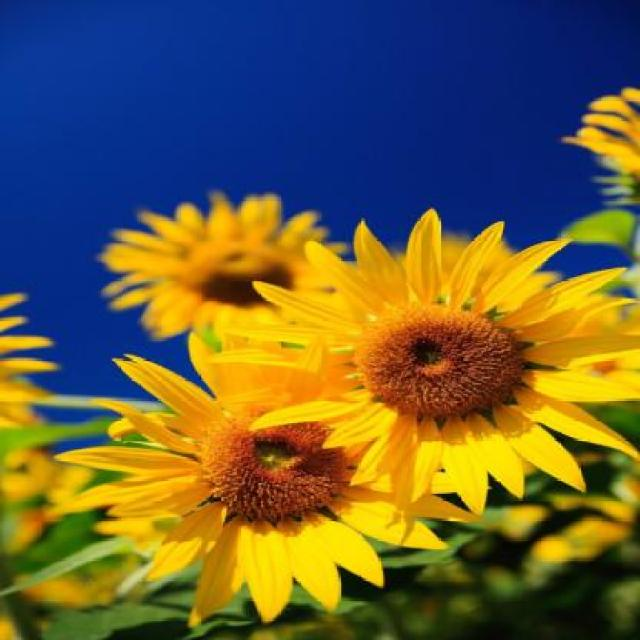sunflower: (236, 215, 638, 503), (44, 392, 478, 640), (95, 177, 351, 343)
